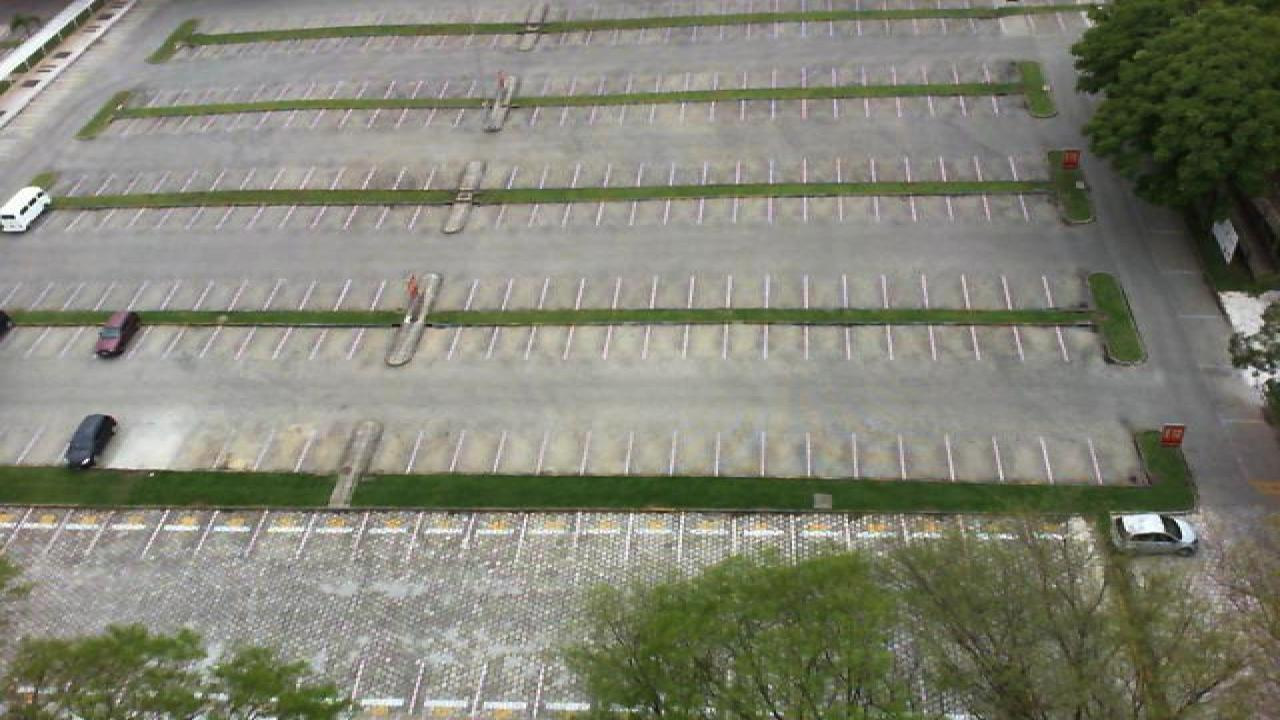Car: (1110, 510, 1200, 556), (62, 413, 116, 470), (0, 186, 52, 232), (94, 312, 140, 358)
